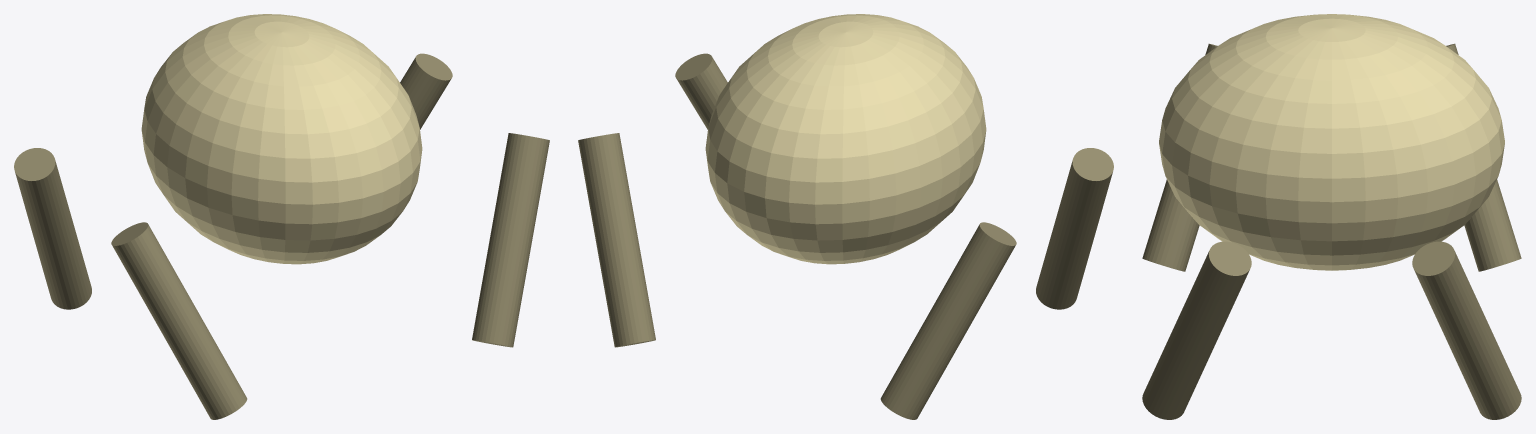
Rendered from skitter.glb.
The picture shows the model from 3 angles, left to right: view 1: azimuth 30°, elevation 25°; view 2: azimuth 150°, elevation 25°; view 3: azimuth 270°, elevation 25°; orthographic projection. The views are drawn at different scales.
Parts seen in each view (by area): view 1: Sphere, Cylinder.003, Cylinder.002, Cylinder, Cylinder.001; view 2: Sphere, Cylinder.001, Cylinder, Cylinder.002, Cylinder.003; view 3: Sphere, Cylinder.001, Cylinder.003, Cylinder, Cylinder.002.
Part boxes in pixels (left/top/right/bottom): Sphere: left=141, top=14, right=422, bottom=264; Cylinder.003: left=472, top=133, right=549, bottom=347; Cylinder.002: left=111, top=222, right=247, bottom=419; Cylinder: left=14, top=148, right=91, bottom=309; Cylinder.001: left=400, top=53, right=452, bottom=129; Sphere: left=705, top=14, right=986, bottom=264; Cylinder.001: left=578, top=133, right=655, bottom=347; Cylinder: left=880, top=222, right=1016, bottom=419; Cylinder.002: left=1036, top=148, right=1113, bottom=309; Cylinder.003: left=675, top=53, right=727, bottom=129; Sphere: left=1159, top=14, right=1504, bottom=270; Cylinder.001: left=1412, top=241, right=1521, bottom=419; Cylinder.003: left=1142, top=241, right=1251, bottom=419; Cylinder: left=1446, top=43, right=1521, bottom=271; Cylinder.002: left=1142, top=43, right=1217, bottom=271.
Size of the model in its own units: 1.19 by 0.7737 by 0.8433.
